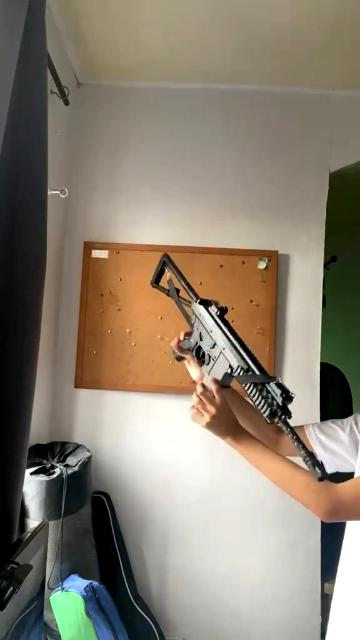rifle: (146, 251, 334, 484)
